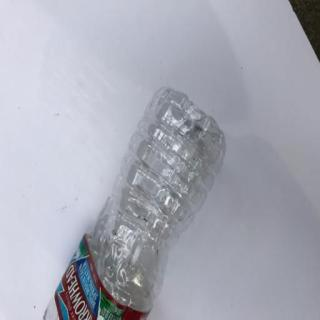Plastic-bottle: (42, 83, 230, 320)
